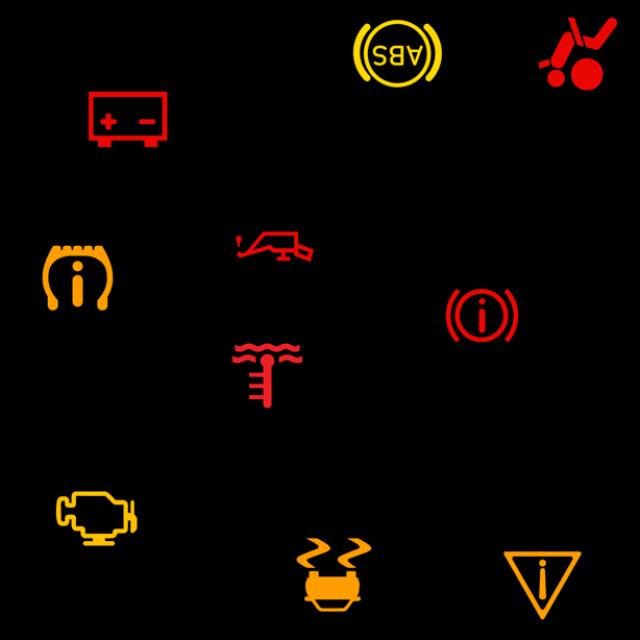Anti Lock Braking System: (349, 5, 446, 102)
Braking System Issue: (434, 267, 530, 364)
Charging System Issue: (79, 71, 176, 168)
Check Engine: (48, 470, 145, 567)
Electronic Stability Problem -ESP-: (286, 526, 382, 624)
Engine Overheating Warning Light: (219, 328, 316, 424)
Low Engine Oil Warning Light: (226, 198, 323, 295)
Low Tire Pressure Warning Light: (29, 230, 126, 326)
Master warning light: (494, 537, 591, 634)
SRS-Airbag: (530, 5, 626, 102)
